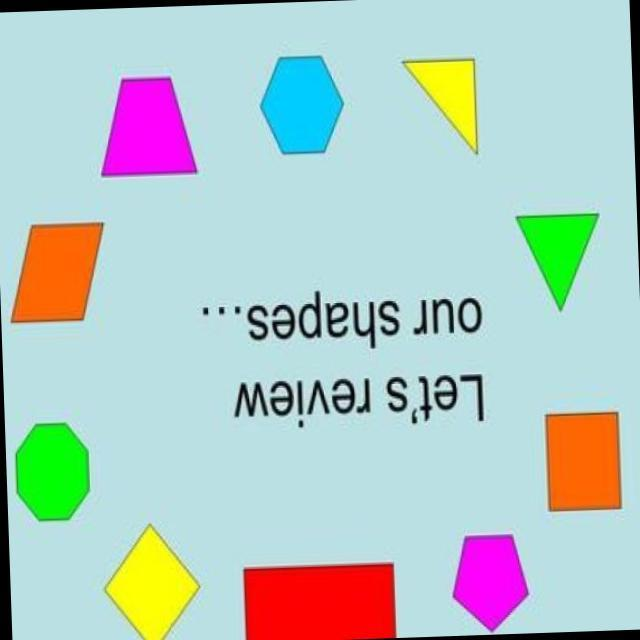square: (520, 388, 640, 557)
triangle: (498, 193, 617, 327), (398, 38, 503, 164)
